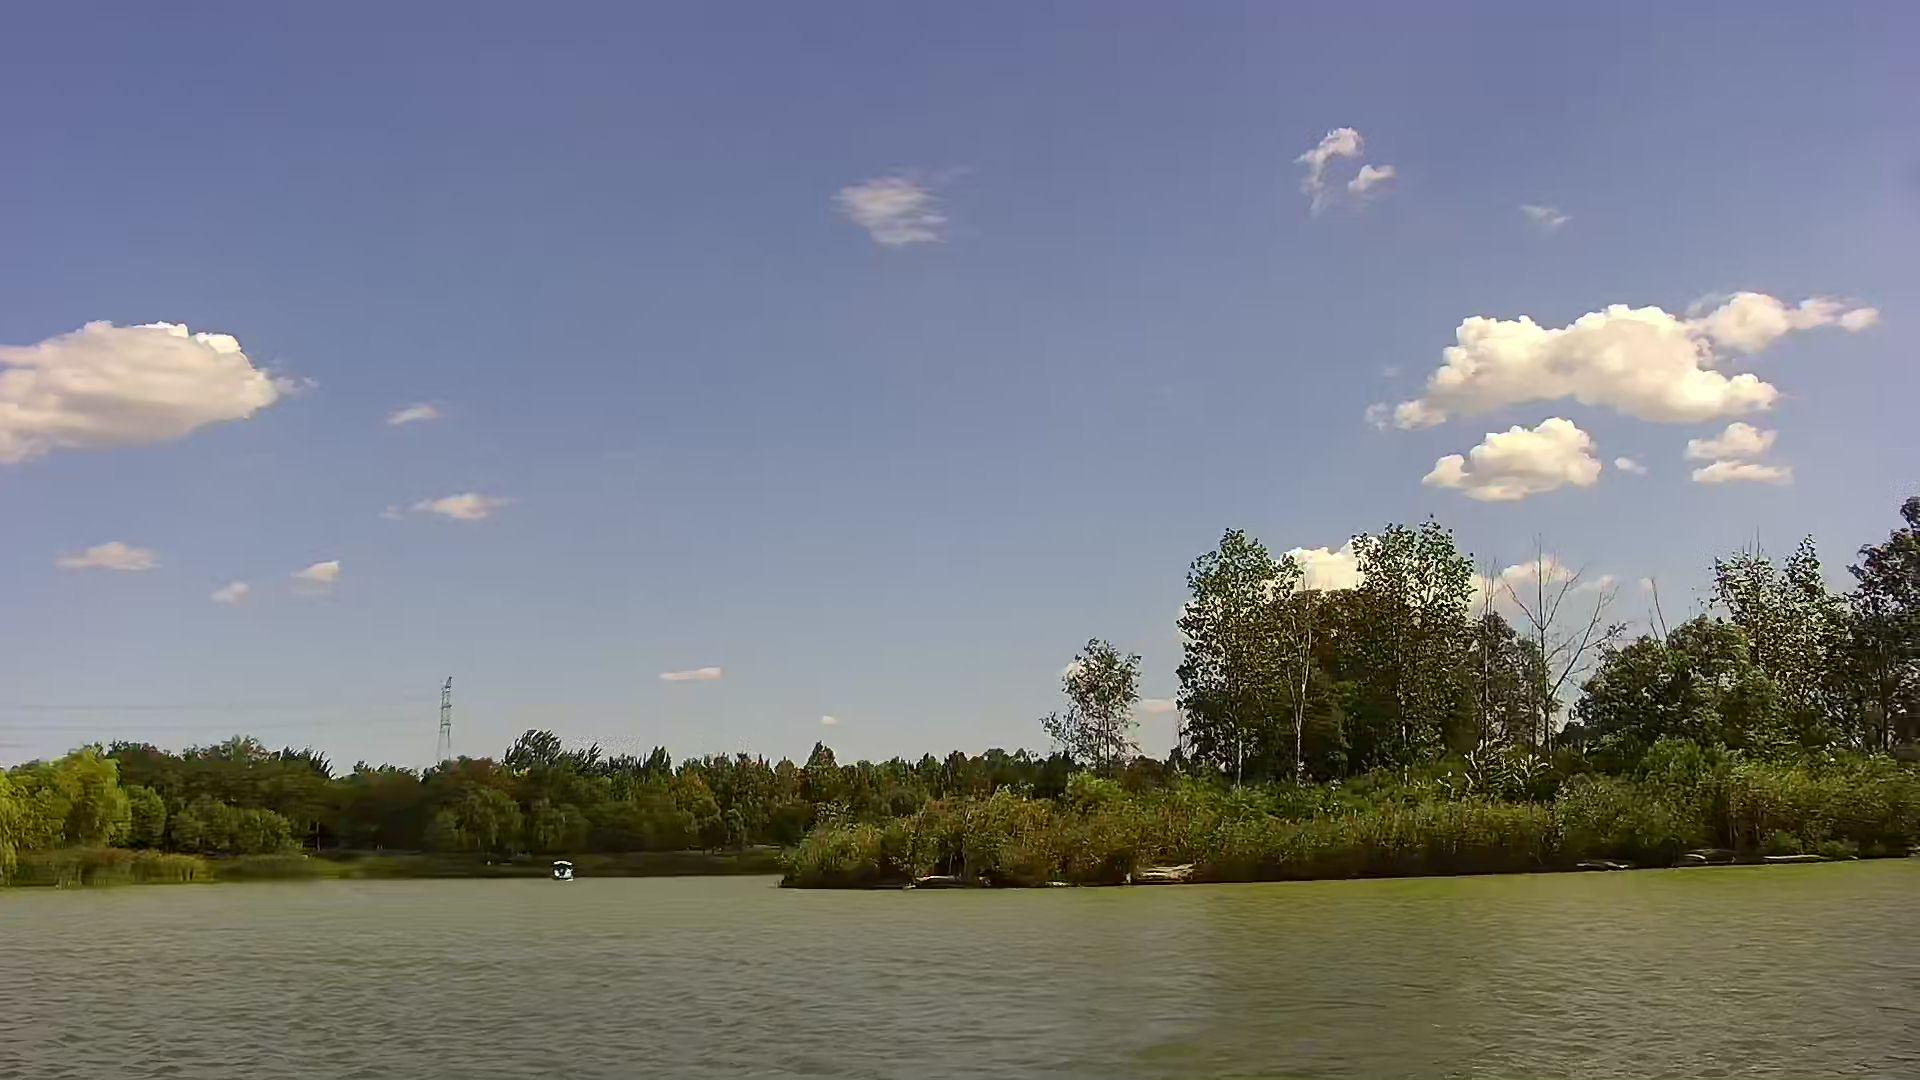rock: (1124, 861, 1189, 884), (909, 874, 981, 887)
